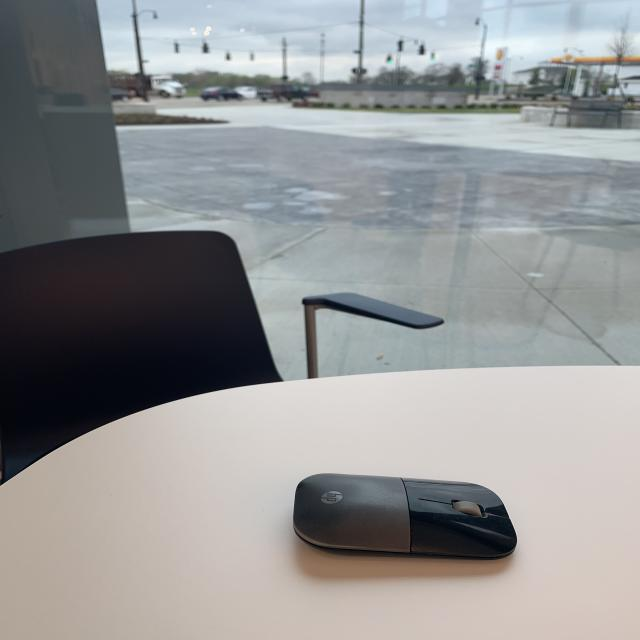Mouse: (284, 466, 528, 568)
